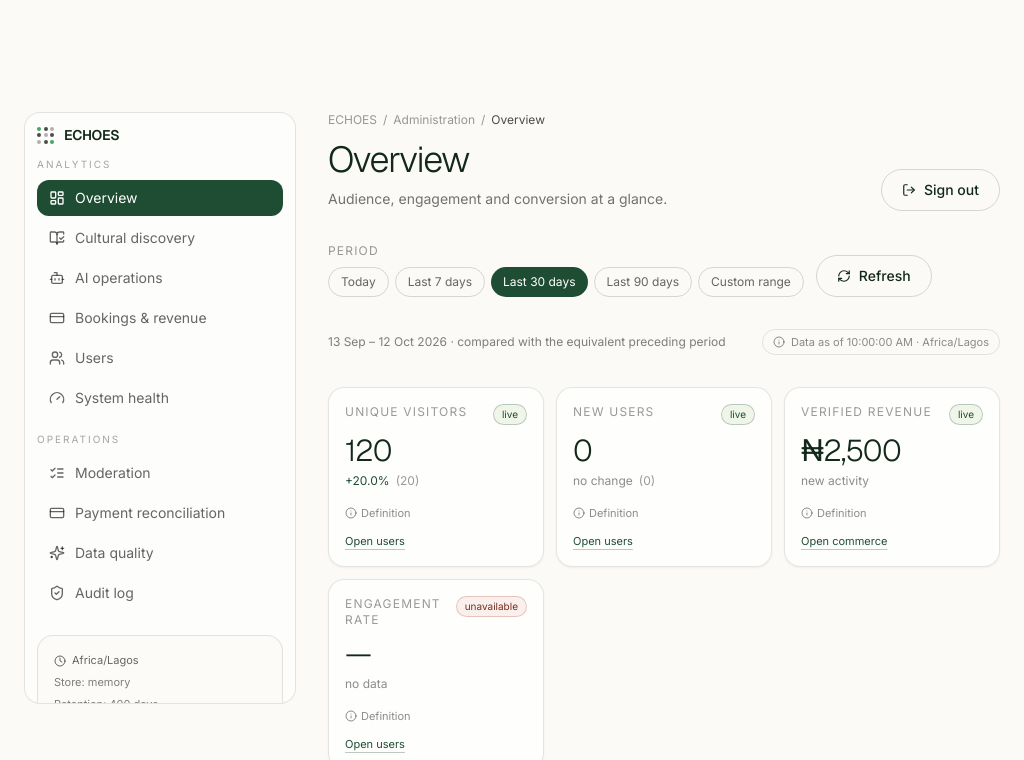
Test: KPI cards › shows the value, the comparison and how the metric is defined
Expected: the button "Overview" is shown, [37, 180, 283, 216]
Expected: the text "Unique visitors" is shown, [345, 404, 467, 420]
Click the button "Definition" below "+20.0%". click: x=378, y=513
box: [345, 505, 411, 522]
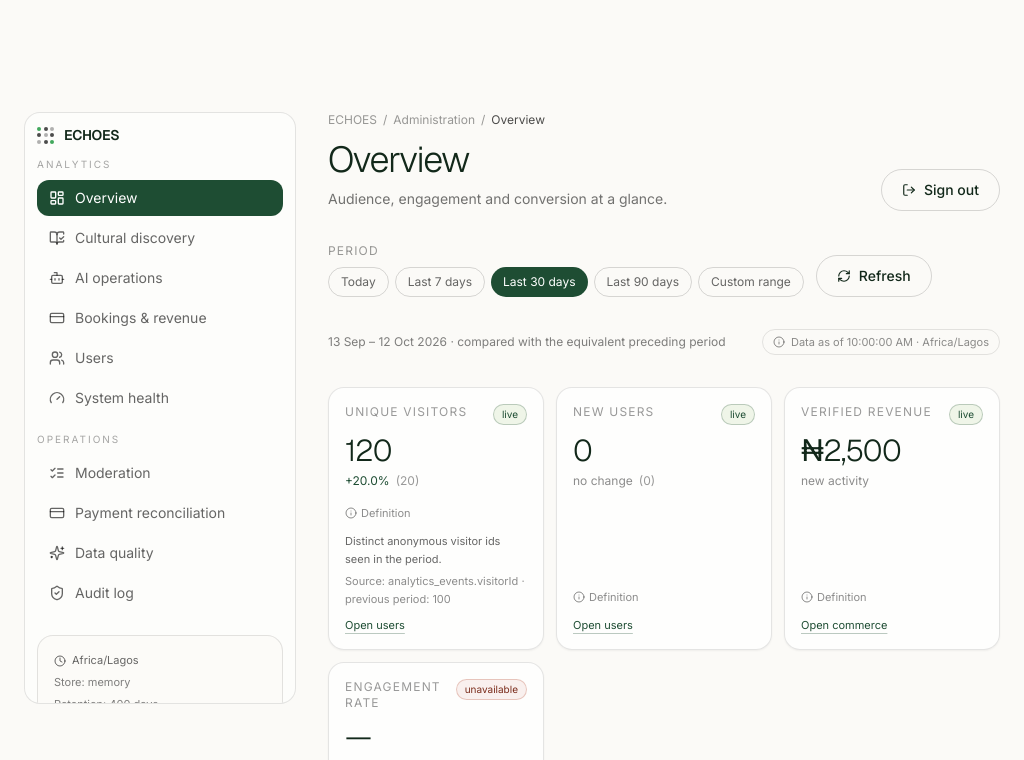
Expected: the text "Distinct anonymous visitor ids seen in the period." is shown, [345, 533, 527, 569]
Expected: the text "Source: analytics_events.visitorId · previous period: 100" is shown, [345, 573, 527, 609]
